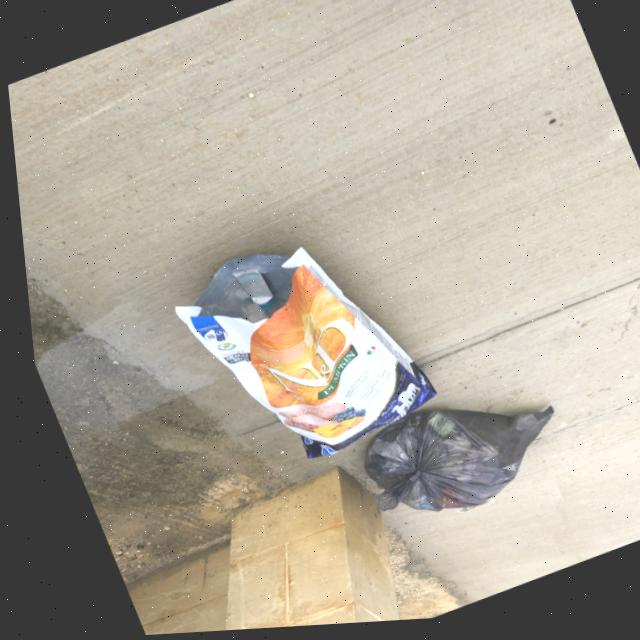Mixed Waste -Black Bag-: (339, 377, 559, 542)
Other: (147, 215, 438, 495)
